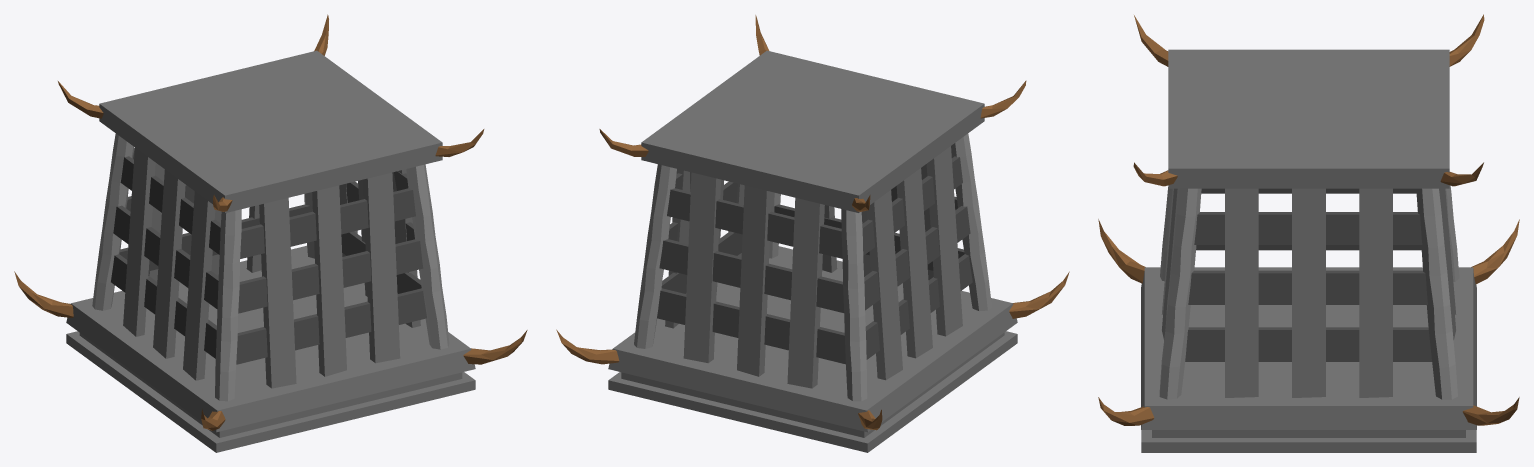
The model's file is LPCP_Cage24.fbx.
3 views of the same model, side by side, from view 1: azimuth 30°, elevation 25°; view 2: azimuth 150°, elevation 25°; view 3: azimuth 270°, elevation 25° (orthographic). The views are drawn at different scales.
Visible parts, largest first — view 1: LPCP_Cage24; view 2: LPCP_Cage24; view 3: LPCP_Cage24.
Part boxes in pixels (<box>): LPCP_Cage24: <box>14,14,527,452</box>; LPCP_Cage24: <box>556,15,1069,452</box>; LPCP_Cage24: <box>1098,14,1519,452</box>.
Bounding box in the file's own units: 3.17 × 2.44 × 3.17.
